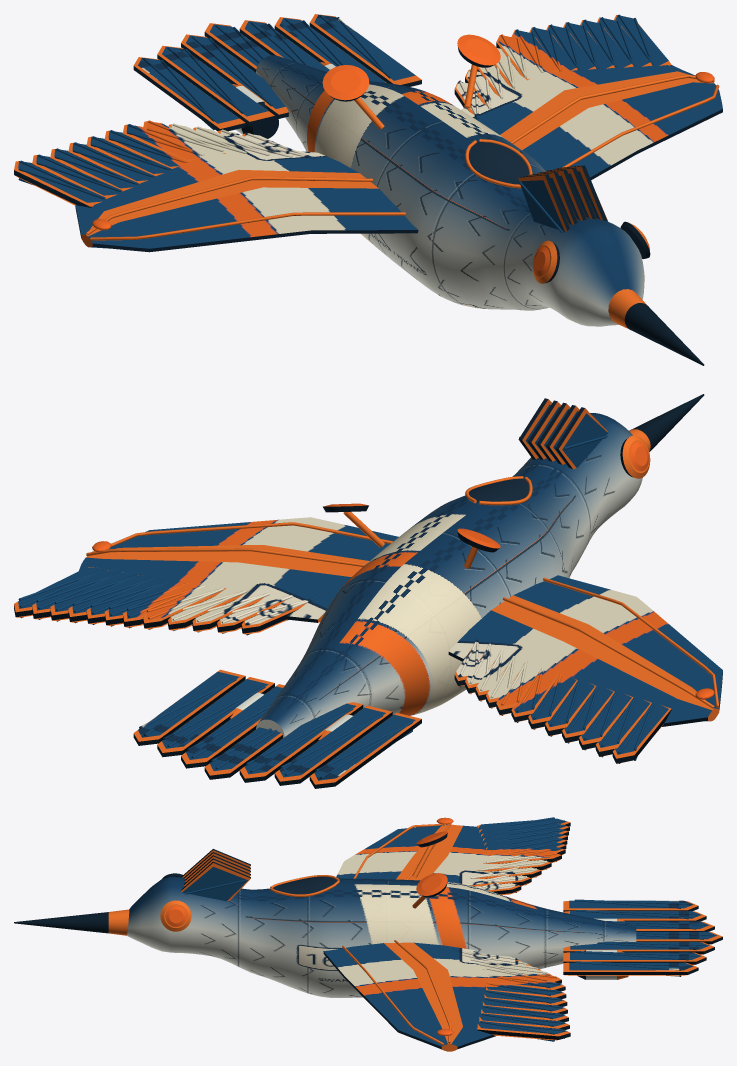
3 renders of one model, top to bottom at view 1: azimuth 30°, elevation 25°; view 2: azimuth 150°, elevation 25°; view 3: azimuth 270°, elevation 25°, orthographic. The views are drawn at different scales.
Visible parts, largest first — view 1: kingfisher_hull; view 2: kingfisher_hull; view 3: kingfisher_hull.
Part boxes in pixels (x1=…): kingfisher_hull: x1=14, y1=14, x2=722, y2=365; kingfisher_hull: x1=14, y1=394, x2=722, y2=788; kingfisher_hull: x1=14, y1=817, x2=722, y2=1051.
Bounding box in the file's own units: 12.5 × 3.63 × 17.
Materials: 1 (1 with a texture image).
